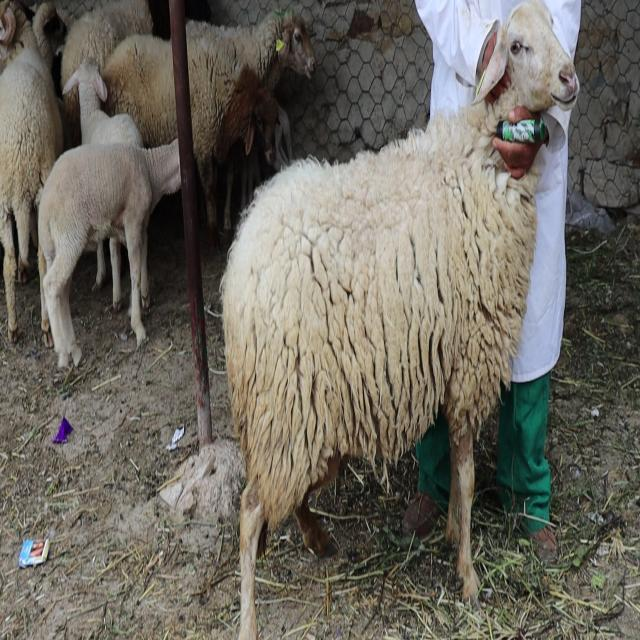Score_3: (221, 0, 579, 639)
